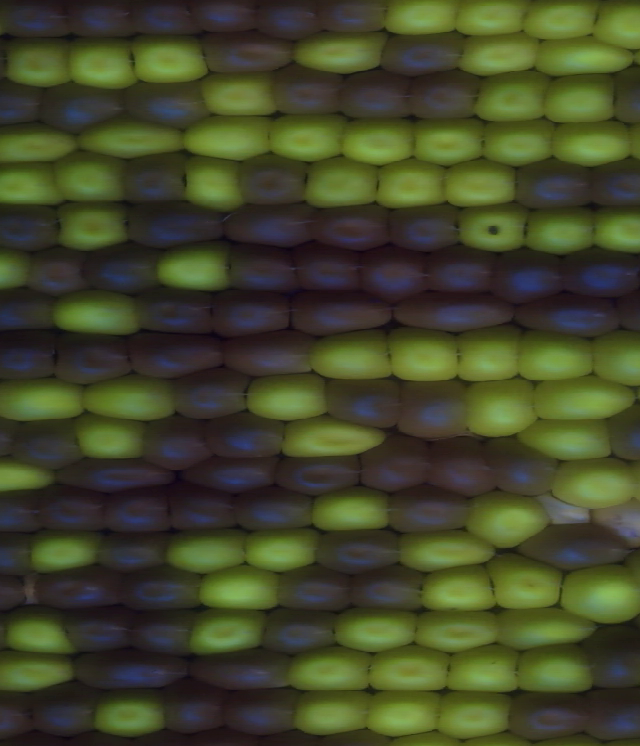fluorescent: (459, 485, 561, 557), (72, 114, 198, 166), (526, 369, 640, 426), (44, 281, 147, 344), (480, 544, 571, 615), (75, 369, 188, 426), (494, 600, 605, 658), (377, 320, 471, 388), (277, 411, 395, 465), (507, 319, 602, 385), (302, 323, 403, 385), (395, 524, 503, 581), (458, 373, 545, 443), (555, 558, 640, 629), (545, 450, 640, 513), (328, 599, 425, 660), (160, 520, 260, 579), (240, 367, 338, 427), (286, 26, 396, 79), (49, 192, 135, 259), (121, 29, 222, 86), (278, 639, 375, 698), (515, 415, 622, 468), (152, 230, 239, 295), (448, 319, 532, 386), (176, 111, 281, 164), (194, 556, 288, 615), (467, 65, 555, 128), (47, 145, 133, 209), (308, 479, 399, 539), (412, 559, 506, 617), (181, 601, 275, 659), (299, 151, 384, 215), (262, 107, 351, 168), (361, 639, 456, 696), (407, 606, 510, 658), (454, 26, 549, 82), (432, 682, 519, 743), (544, 113, 637, 170), (65, 31, 147, 95), (0, 29, 79, 95), (507, 638, 596, 696), (332, 113, 424, 169), (370, 151, 450, 214), (437, 152, 521, 212), (287, 684, 382, 737), (238, 522, 329, 577), (441, 637, 521, 699), (453, 198, 534, 259), (0, 373, 93, 426), (1, 599, 79, 662), (177, 152, 250, 219), (479, 113, 563, 171), (539, 69, 620, 128), (89, 685, 174, 741), (521, 202, 603, 260), (359, 685, 445, 740), (0, 116, 86, 170), (21, 527, 110, 579), (405, 115, 490, 169), (196, 67, 280, 121), (0, 645, 84, 698), (72, 409, 151, 464), (0, 154, 72, 211), (518, 1, 607, 43), (374, 1, 465, 42), (585, 327, 640, 391), (0, 449, 65, 502), (447, 1, 533, 40), (585, 199, 640, 257), (588, 1, 640, 55), (0, 236, 39, 297)
nonfluorescent: (505, 520, 640, 576), (115, 195, 235, 256), (384, 370, 477, 446), (120, 324, 232, 386), (287, 284, 403, 342), (391, 286, 522, 337), (217, 326, 325, 386), (185, 641, 300, 697), (51, 451, 185, 499), (65, 644, 197, 692), (475, 432, 566, 501), (111, 559, 215, 619), (503, 683, 601, 746), (515, 290, 629, 343), (509, 151, 599, 217), (168, 360, 259, 425), (123, 76, 221, 136), (30, 560, 133, 617), (225, 480, 324, 539), (198, 405, 289, 469), (32, 79, 129, 139), (353, 239, 437, 308), (483, 245, 575, 307), (77, 237, 169, 299), (221, 196, 321, 253), (47, 328, 136, 391), (376, 22, 471, 81), (421, 430, 501, 500), (304, 199, 397, 259), (310, 522, 406, 580), (155, 672, 238, 739), (5, 412, 89, 478), (355, 433, 435, 502), (136, 407, 216, 476), (405, 63, 485, 131), (288, 237, 373, 301), (271, 558, 360, 619), (323, 372, 410, 434), (378, 481, 476, 536), (24, 676, 108, 739), (205, 284, 296, 342), (270, 59, 353, 122), (381, 199, 472, 256), (128, 284, 222, 339), (341, 561, 430, 619), (175, 451, 287, 497), (419, 241, 502, 303), (273, 449, 368, 503), (86, 522, 174, 580), (218, 684, 309, 740), (335, 67, 421, 126), (55, 598, 137, 659), (195, 28, 295, 78), (221, 238, 307, 296), (31, 477, 114, 537), (258, 603, 345, 660), (96, 482, 182, 539), (576, 618, 640, 694), (559, 242, 640, 302), (122, 600, 202, 660), (162, 479, 246, 536), (235, 149, 313, 209), (120, 149, 192, 209), (573, 680, 640, 742), (22, 243, 92, 300), (0, 324, 61, 388), (0, 200, 66, 256), (125, 1, 209, 43), (249, 1, 326, 46), (60, 1, 139, 44), (0, 1, 80, 43), (583, 154, 640, 212), (0, 284, 60, 339), (179, 1, 265, 39), (0, 76, 55, 133), (0, 483, 51, 539), (310, 1, 396, 33), (0, 681, 45, 741), (0, 523, 44, 583), (601, 399, 640, 465), (607, 59, 640, 129), (0, 563, 33, 612)
